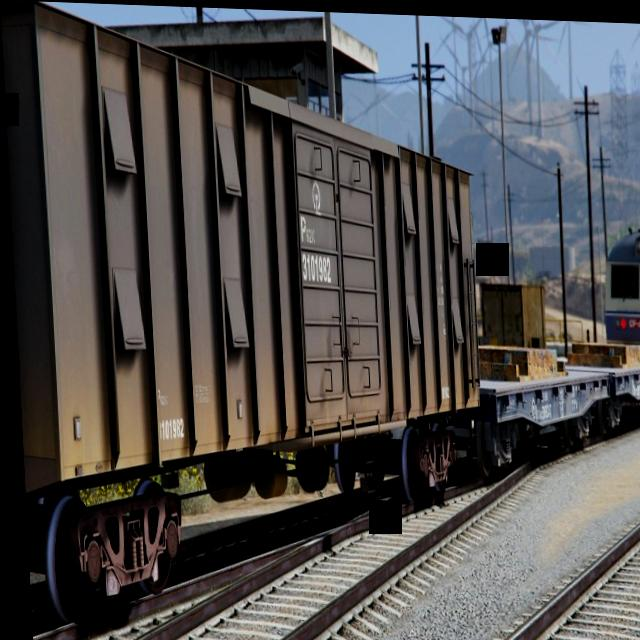boxcar: (0, 0, 495, 640)
cargo: (471, 272, 555, 379), (559, 331, 640, 365)
flatcar: (469, 359, 608, 459), (601, 354, 640, 423)
locomotive: (595, 213, 640, 362)
